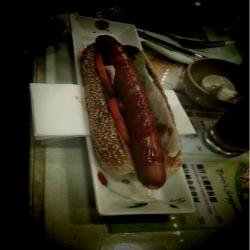hotdog: (67, 34, 201, 197)
